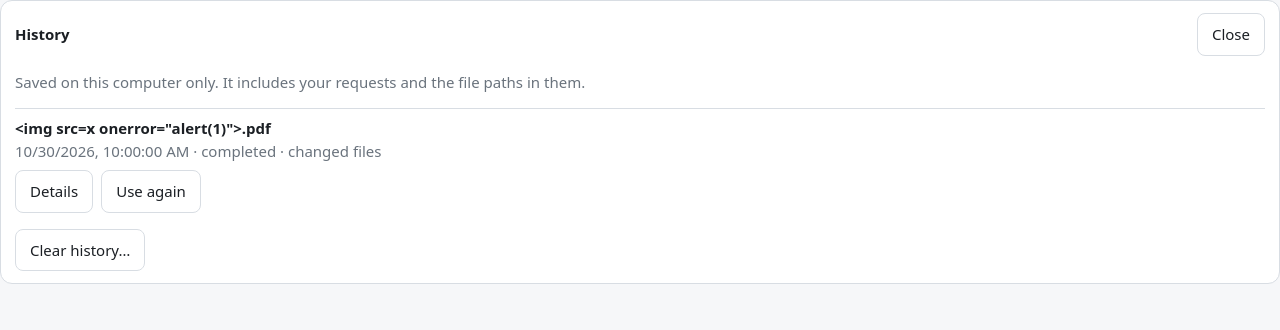
Scenario: HistoryPanel › asks before clearing, and sends the confirmation only after Yes
Expected: the text "<img src=x onerror=\"alert(1)\">.pdf" is shown, [15,118,271,138]
Click the button "Clear history…".
click(80, 250)  # box [15,228,145,271]
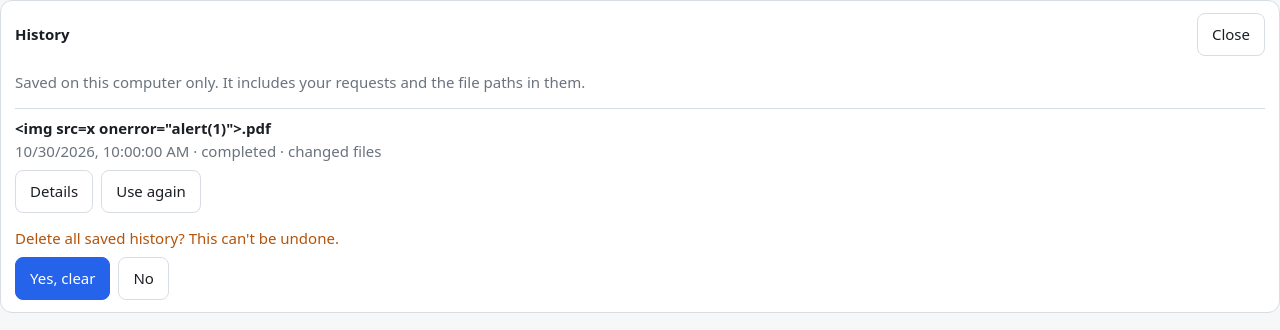
Click the button "Yes, clear".
click(63, 278)  # box [15,257,110,300]
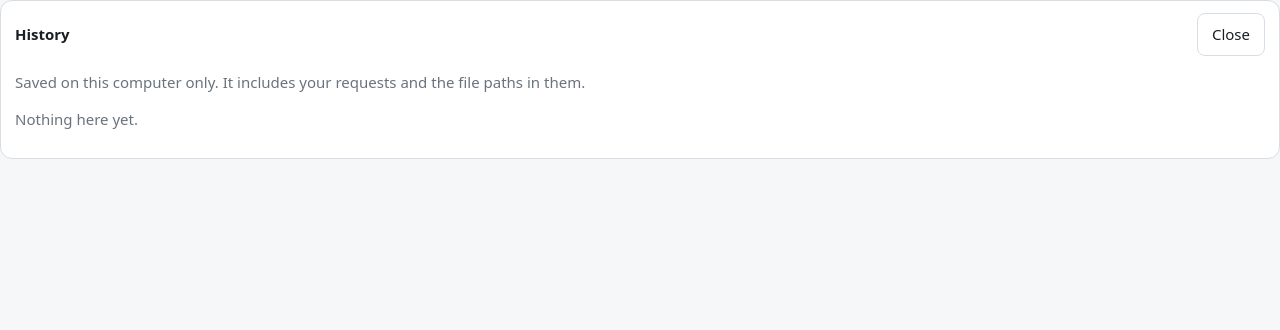
Result: the text "Nothing here yet." is shown at [15,109,138,129]
